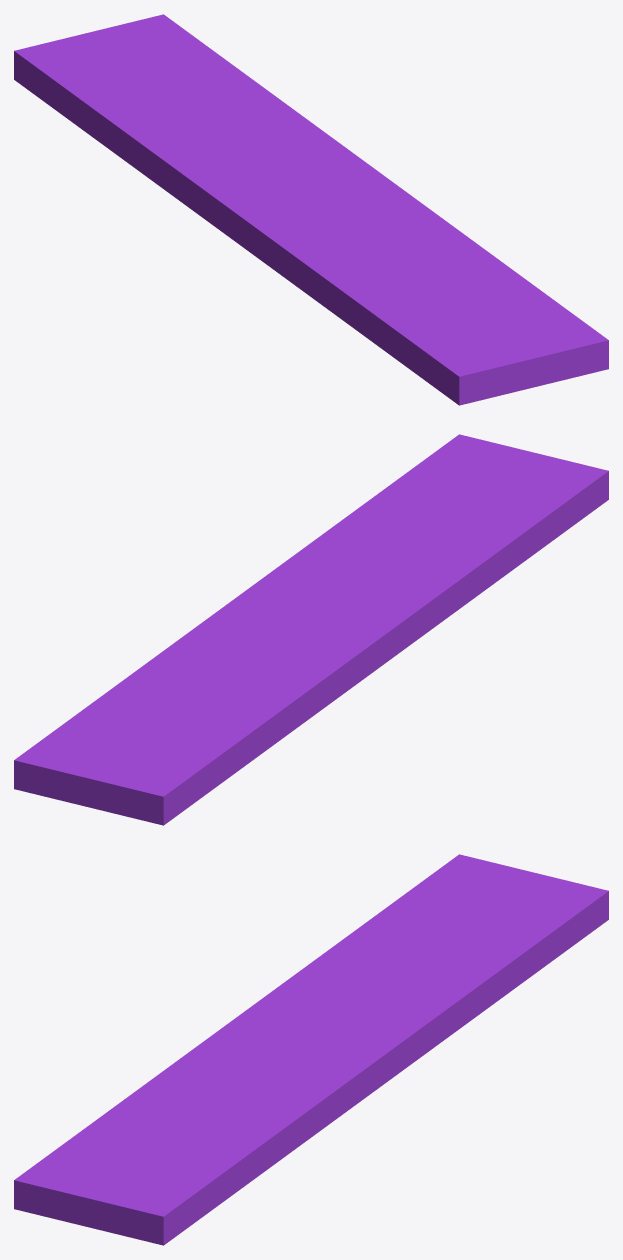
The model's file is StairsStep_139_chunks.fbx.
3 renders of one model, top to bottom at view 1: azimuth 30°, elevation 25°; view 2: azimuth 150°, elevation 25°; view 3: azimuth 330°, elevation 25°, orthographic.
Visible parts, largest first — view 1: StairsStep_139_0, StairsStep_139_3, StairsStep_139_1, StairsStep_139_2; view 2: StairsStep_139_0, StairsStep_139_3, StairsStep_139_1, StairsStep_139_2; view 3: StairsStep_139_0, StairsStep_139_3, StairsStep_139_2, StairsStep_139_1.
Part boxes in pixels (x1,y1,x2,y2): StairsStep_139_0: (228, 198, 608, 405); StairsStep_139_3: (65, 33, 321, 219); StairsStep_139_1: (14, 14, 232, 239); StairsStep_139_2: (321, 130, 483, 248); StairsStep_139_0: (313, 434, 608, 665); StairsStep_139_3: (40, 610, 381, 759); StairsStep_139_1: (14, 653, 382, 825); StairsStep_139_2: (172, 526, 334, 644); StairsStep_139_0: (14, 1014, 309, 1245); StairsStep_139_3: (241, 891, 583, 1040); StairsStep_139_2: (288, 1006, 458, 1153); StairsStep_139_1: (409, 854, 608, 1037).
Bounding box in the file's own units: 157 × 28.98 × 810.
